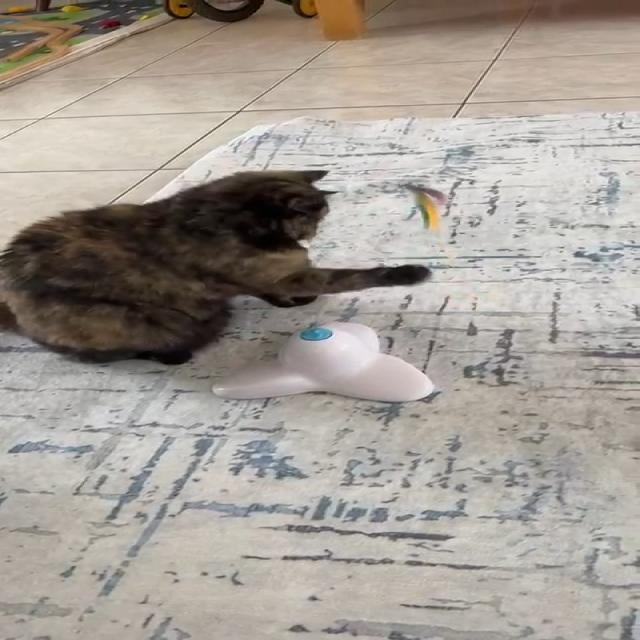authorized: (0, 168, 431, 366)
